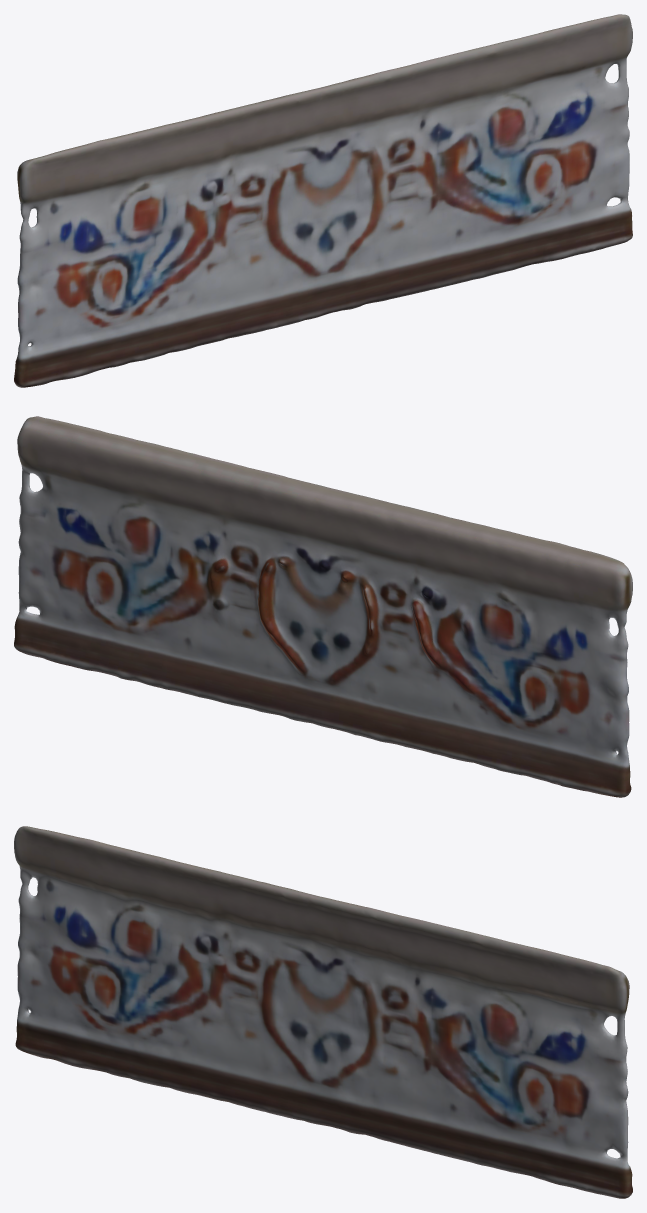
The model's file is e20c971da8f5_decorations_on_wall.fbx.
The picture shows the model from 3 angles, top to bottom: view 1: azimuth 30°, elevation 25°; view 2: azimuth 150°, elevation 25°; view 3: azimuth 330°, elevation 25°; orthographic projection.
Visible parts, largest first — view 1: high_poly; view 2: high_poly; view 3: high_poly.
Boxes of the visible parts, x1,y1,x2,y2 form: high_poly: [14, 14, 632, 387]; high_poly: [14, 416, 632, 797]; high_poly: [14, 826, 632, 1198].
Size of the model in its own units: 100 by 36.62 by 4.55.
